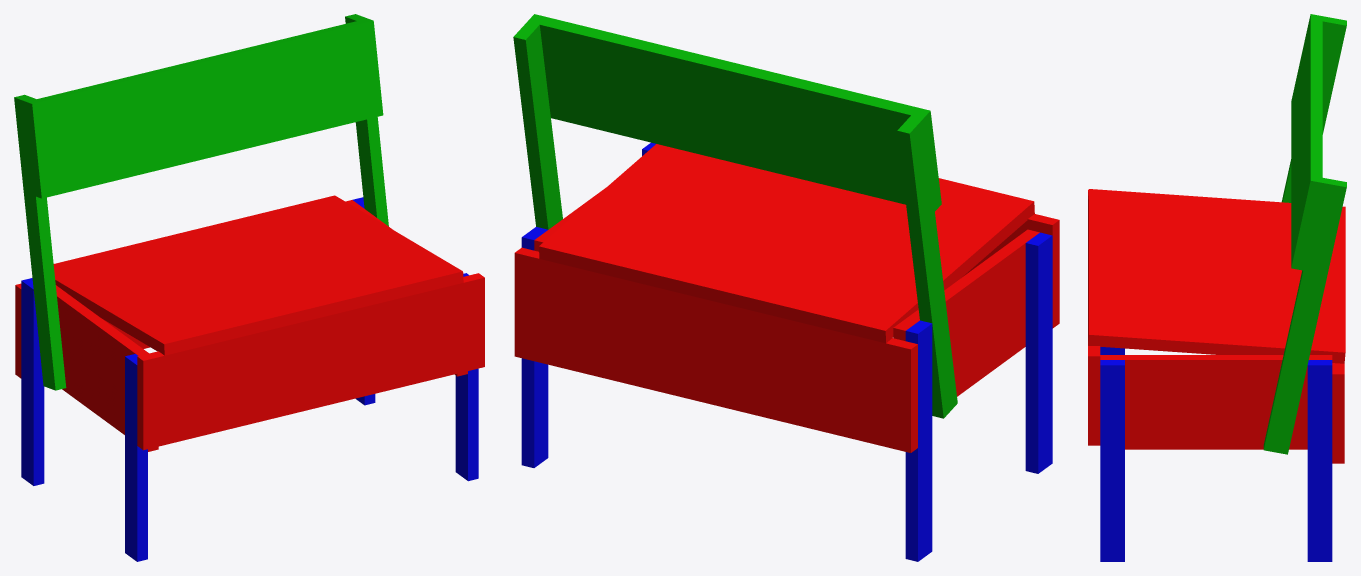
Rendered from result.glb.
The picture shows the model from 3 angles, left to right: view 1: azimuth 30°, elevation 25°; view 2: azimuth 150°, elevation 25°; view 3: azimuth 270°, elevation 25°; orthographic projection. The views are drawn at different scales.
Visible parts, largest first — view 1: 6ea98329-b8b9-45aa-90ad-d789f311885f__back rest plank, 79e4a710-d510-4ec0-8f6e-f04bf4835b75__back rest plank, 923fdecf-a118-4576-89da-a6c1f31a89de__base front, 674a1d46-e745-454c-8777-7dd9c6c5ae25__base front, 4c5089c2-8f60-41c1-bc39-5dc1d73c3a78__seat board, 06df1671-f82f-4173-a1c9-8815eb9b2b7b__back rest diagonal, 8138a224-8ae6-4dad-ba3f-0f0f33f4c1d3__seat board, ab9135e7-f918-4a7e-8bce-ee997db4c274__seat board, f0bc3349-ba6b-49bf-a6ea-35783a6decf1__seat board, 4fe74a5f-6b05-49e9-b3d8-37037e92c646__seat board, 6f8c9333-d005-4b85-a860-6a51e8efe5f5__seat board, e977ff22-820a-4c47-9d44-070bfd5618ad__seat board (+6 smaller); view 2: ac4db109-e156-4191-9ba2-9953deae6021__base back, e137aabd-2e5e-4dd6-9ba6-64746583441c__base back, 6ea98329-b8b9-45aa-90ad-d789f311885f__back rest plank, 79e4a710-d510-4ec0-8f6e-f04bf4835b75__back rest plank, 4c5089c2-8f60-41c1-bc39-5dc1d73c3a78__seat board, 06df1671-f82f-4173-a1c9-8815eb9b2b7b__back rest diagonal, e977ff22-820a-4c47-9d44-070bfd5618ad__seat board, 4fe74a5f-6b05-49e9-b3d8-37037e92c646__seat board, ab9135e7-f918-4a7e-8bce-ee997db4c274__seat board, 8138a224-8ae6-4dad-ba3f-0f0f33f4c1d3__seat board, f0bc3349-ba6b-49bf-a6ea-35783a6decf1__seat board, 6f8c9333-d005-4b85-a860-6a51e8efe5f5__seat board (+7 smaller); view 3: e6fb6e55-d4d7-43ed-ab5f-b6da7c950855__base right, aeb602d8-2db7-47d1-bf13-bd000b45c48c__back rest diagonal, f0bc3349-ba6b-49bf-a6ea-35783a6decf1__seat board, 320a5e81-5b17-4db6-b8ca-b6a6d1e28d94__base right, cc28cbf0-1fbc-4a72-8bf8-3c5d059c71f3__leg back right, 0e3b662e-4e02-48d4-88f7-e3fed9ab080b__leg front right, 4fe74a5f-6b05-49e9-b3d8-37037e92c646__seat board, 6f8c9333-d005-4b85-a860-6a51e8efe5f5__seat board, ab9135e7-f918-4a7e-8bce-ee997db4c274__seat board, 8138a224-8ae6-4dad-ba3f-0f0f33f4c1d3__seat board, e977ff22-820a-4c47-9d44-070bfd5618ad__seat board, 4c5089c2-8f60-41c1-bc39-5dc1d73c3a78__seat board (+7 smaller).
Boxes of the visible parts, left/top/right/bottom form: 6ea98329-b8b9-45aa-90ad-d789f311885f__back rest plank: left=26, top=18, right=378, bottom=151; 79e4a710-d510-4ec0-8f6e-f04bf4835b75__back rest plank: left=31, top=68, right=383, bottom=198; 923fdecf-a118-4576-89da-a6c1f31a89de__base front: left=137, top=273, right=484, bottom=405; 674a1d46-e745-454c-8777-7dd9c6c5ae25__base front: left=137, top=322, right=484, bottom=450; 4c5089c2-8f60-41c1-bc39-5dc1d73c3a78__seat board: left=53, top=258, right=207, bottom=355; 06df1671-f82f-4173-a1c9-8815eb9b2b7b__back rest diagonal: left=14, top=94, right=66, bottom=390; 8138a224-8ae6-4dad-ba3f-0f0f33f4c1d3__seat board: left=121, top=237, right=292, bottom=334; ab9135e7-f918-4a7e-8bce-ee997db4c274__seat board: left=164, top=226, right=335, bottom=324; f0bc3349-ba6b-49bf-a6ea-35783a6decf1__seat board: left=292, top=195, right=463, bottom=292; 4fe74a5f-6b05-49e9-b3d8-37037e92c646__seat board: left=250, top=206, right=420, bottom=303; 6f8c9333-d005-4b85-a860-6a51e8efe5f5__seat board: left=207, top=216, right=378, bottom=313; e977ff22-820a-4c47-9d44-070bfd5618ad__seat board: left=79, top=247, right=249, bottom=345; ac4db109-e156-4191-9ba2-9953deae6021__base back: left=514, top=247, right=917, bottom=401; e137aabd-2e5e-4dd6-9ba6-64746583441c__base back: left=514, top=305, right=917, bottom=452; 6ea98329-b8b9-45aa-90ad-d789f311885f__back rest plank: left=527, top=14, right=936, bottom=164; 79e4a710-d510-4ec0-8f6e-f04bf4835b75__back rest plank: left=545, top=71, right=941, bottom=211; 4c5089c2-8f60-41c1-bc39-5dc1d73c3a78__seat board: left=836, top=189, right=1034, bottom=343; 06df1671-f82f-4173-a1c9-8815eb9b2b7b__back rest diagonal: left=897, top=115, right=957, bottom=418; e977ff22-820a-4c47-9d44-070bfd5618ad__seat board: left=786, top=178, right=984, bottom=331; 4fe74a5f-6b05-49e9-b3d8-37037e92c646__seat board: left=588, top=156, right=754, bottom=282; ab9135e7-f918-4a7e-8bce-ee997db4c274__seat board: left=687, top=180, right=854, bottom=306; 8138a224-8ae6-4dad-ba3f-0f0f33f4c1d3__seat board: left=737, top=192, right=903, bottom=318; f0bc3349-ba6b-49bf-a6ea-35783a6decf1__seat board: left=539, top=144, right=705, bottom=270; 6f8c9333-d005-4b85-a860-6a51e8efe5f5__seat board: left=638, top=168, right=804, bottom=294; e6fb6e55-d4d7-43ed-ab5f-b6da7c950855__base right: left=1100, top=355, right=1332, bottom=404; aeb602d8-2db7-47d1-bf13-bd000b45c48c__back rest diagonal: left=1263, top=178, right=1346, bottom=454; f0bc3349-ba6b-49bf-a6ea-35783a6decf1__seat board: left=1088, top=314, right=1345, bottom=363; 320a5e81-5b17-4db6-b8ca-b6a6d1e28d94__base right: left=1125, top=404, right=1307, bottom=449; cc28cbf0-1fbc-4a72-8bf8-3c5d059c71f3__leg back right: left=1307, top=360, right=1332, bottom=561; 0e3b662e-4e02-48d4-88f7-e3fed9ab080b__leg front right: left=1100, top=360, right=1124, bottom=561; 4fe74a5f-6b05-49e9-b3d8-37037e92c646__seat board: left=1088, top=293, right=1345, bottom=331; 6f8c9333-d005-4b85-a860-6a51e8efe5f5__seat board: left=1088, top=272, right=1345, bottom=310; ab9135e7-f918-4a7e-8bce-ee997db4c274__seat board: left=1088, top=251, right=1345, bottom=289; 8138a224-8ae6-4dad-ba3f-0f0f33f4c1d3__seat board: left=1088, top=230, right=1345, bottom=269; e977ff22-820a-4c47-9d44-070bfd5618ad__seat board: left=1088, top=209, right=1345, bottom=248; 4c5089c2-8f60-41c1-bc39-5dc1d73c3a78__seat board: left=1088, top=189, right=1345, bottom=227.
Size of the model in its own units: 800 by 853 by 525.
